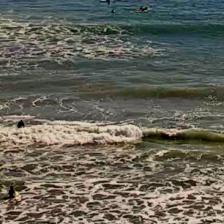surfer: (17, 119, 25, 128), (110, 10, 116, 14), (142, 6, 148, 10), (106, 0, 112, 3), (109, 0, 117, 2)
